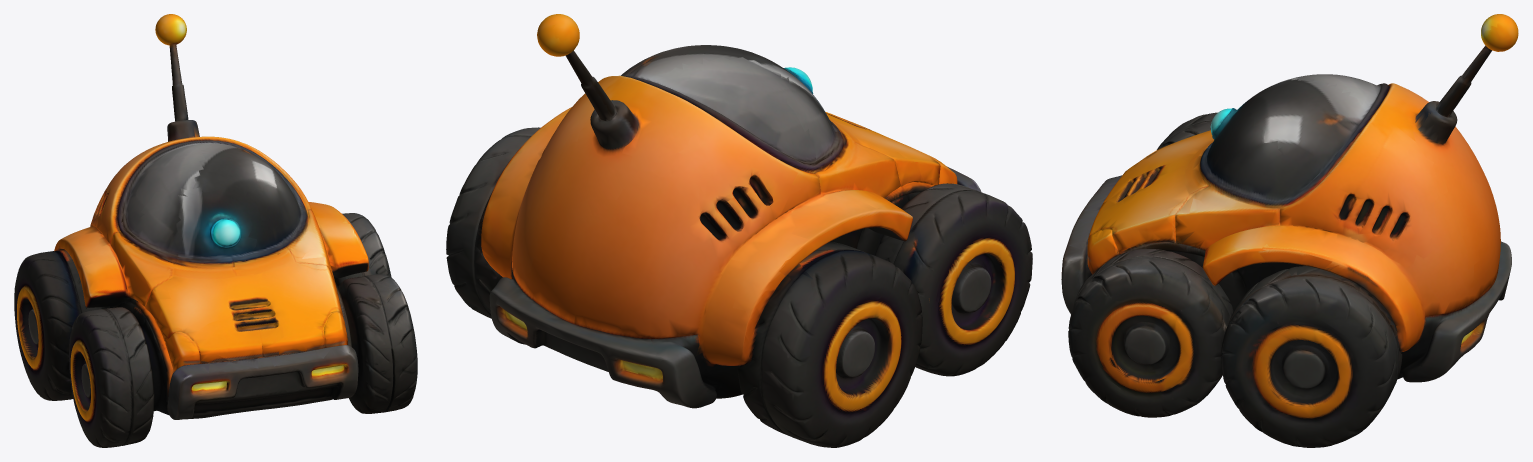
The model's file is robo-laranja-game-v3.glb.
The picture shows the model from 3 angles, left to right: view 1: azimuth 30°, elevation 25°; view 2: azimuth 150°, elevation 25°; view 3: azimuth 270°, elevation 25°; orthographic projection. The views are drawn at different scales.
Visible parts, largest first — view 1: Player original restored surface; view 2: Player original restored surface; view 3: Player original restored surface.
Boxes of the visible parts, left/top/right/bottom form: Player original restored surface: left=14, top=14, right=417, bottom=447; Player original restored surface: left=446, top=14, right=1032, bottom=447; Player original restored surface: left=1061, top=14, right=1518, bottom=447.
Bounding box in the file's own units: 1.25 × 1.08 × 1.21.
1 material, 1 textured.
